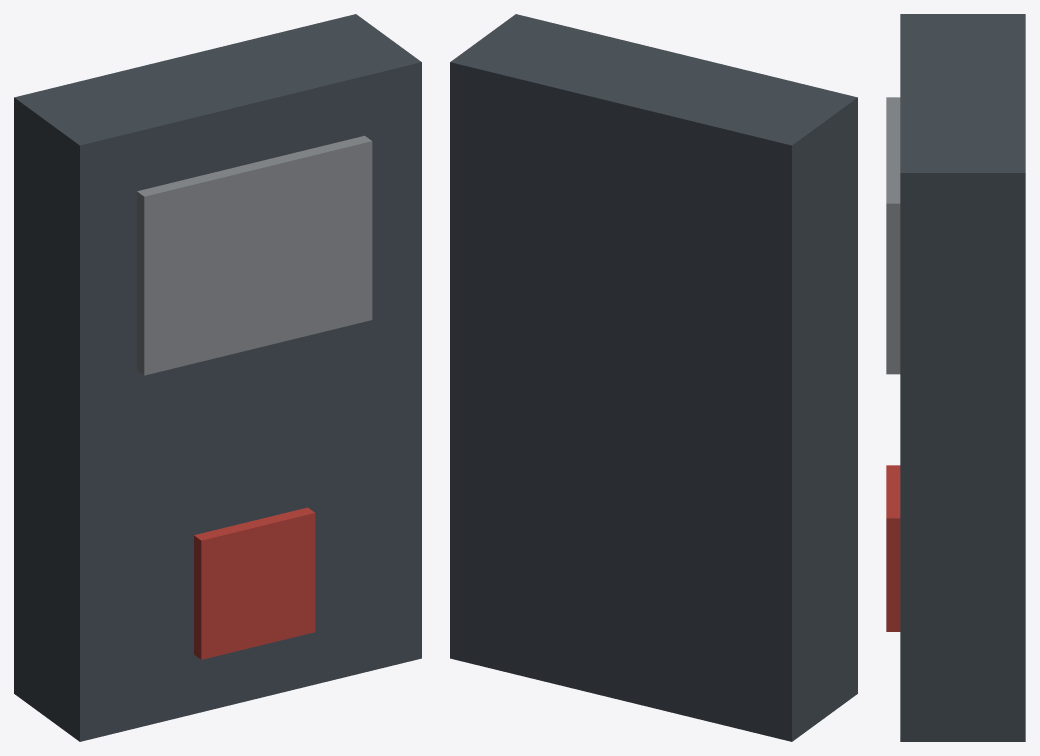
Rendered from GD_Intercom_01.glb.
3 renders of one model, left to right at view 1: azimuth 30°, elevation 25°; view 2: azimuth 150°, elevation 25°; view 3: azimuth 270°, elevation 25°, orthographic. The views are drawn at different scales.
Visible parts, largest first — view 1: GD_Intercom_01; view 2: GD_Intercom_01; view 3: GD_Intercom_01.
Part boxes in pixels (x1,y1,x2,y2): GD_Intercom_01: [14, 14, 421, 741]; GD_Intercom_01: [450, 14, 857, 741]; GD_Intercom_01: [886, 14, 1025, 741].
Bounding box in the file's own units: 0.12 × 0.2 × 0.0445.
Materials: 1 (1 with a texture image).
